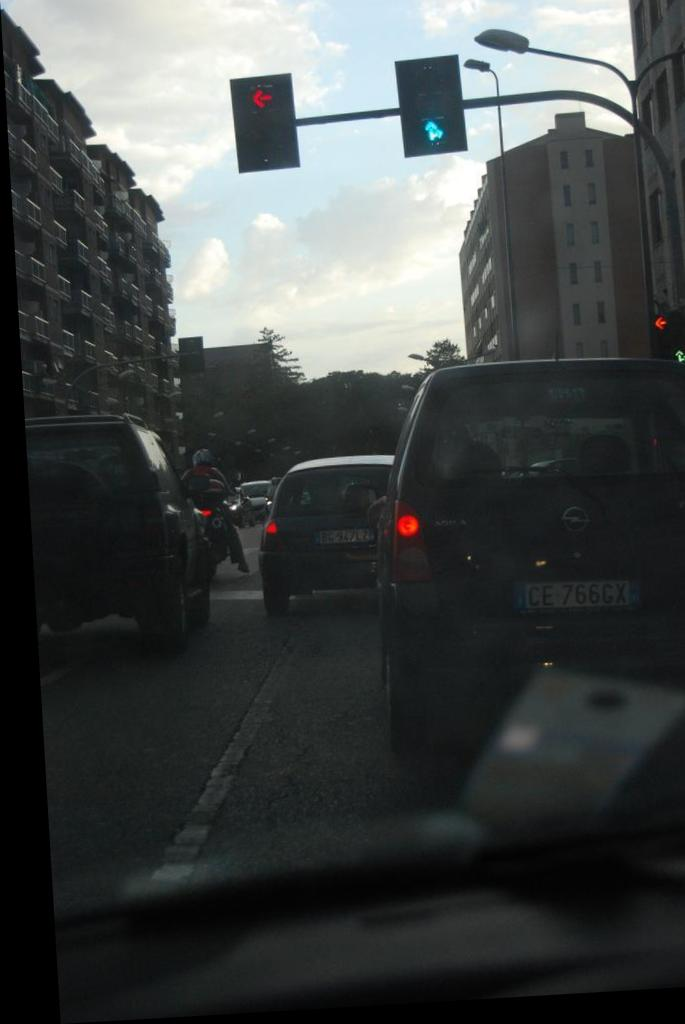License_Plate: (512, 574, 646, 614), (312, 527, 371, 544)
